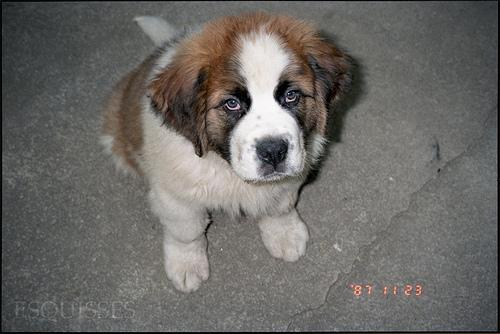dog-saint_bernard: (151, 12, 352, 181)
